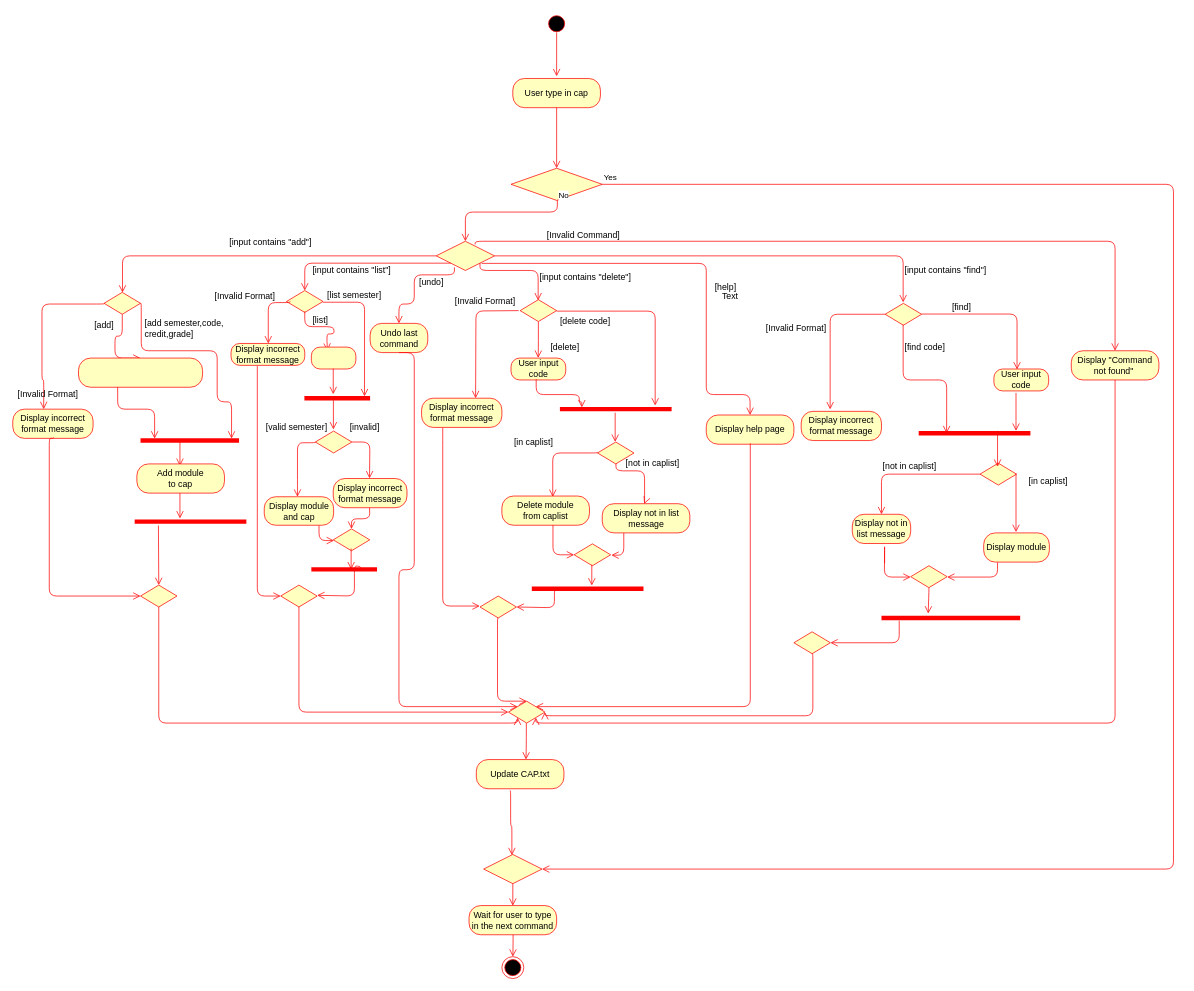
The diagram is 1194 pixels wide and 991 high, and some of its shapes have lost their labels. The shapes that lost their labels are listed below. From the top down, each one's centre as x and y in pixels, then its label:
the point at 556,184: input is "esc"
the point at 140,372: User input semester,code,credit,grade
the point at 333,357: User semester
